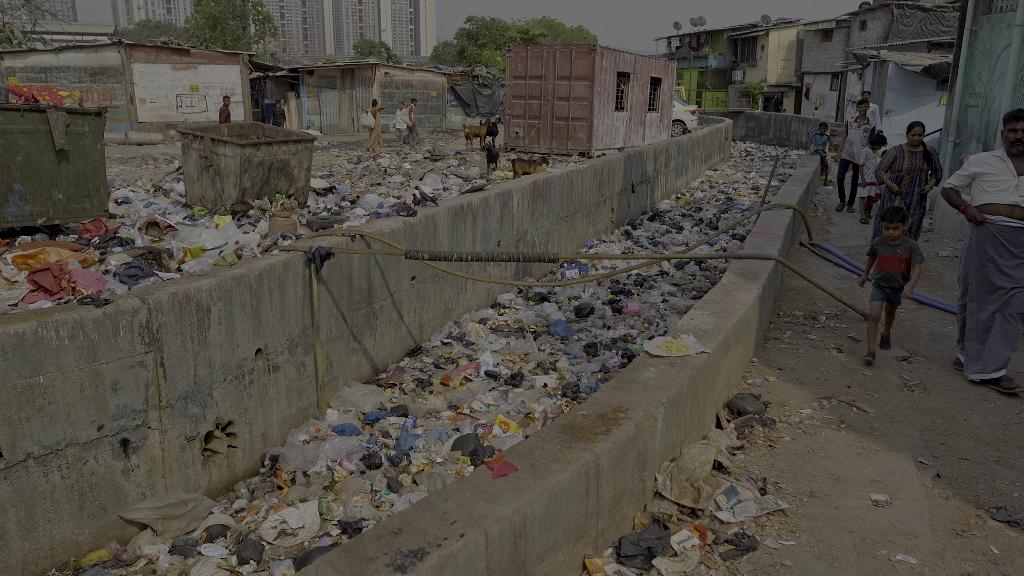dustbin: (0, 104, 116, 234), (178, 116, 316, 216)
garbage: (657, 441, 784, 524), (257, 494, 327, 547), (615, 513, 672, 569), (328, 377, 397, 412), (719, 391, 776, 430), (449, 430, 498, 467), (314, 432, 372, 462), (720, 529, 761, 565), (227, 539, 275, 567), (665, 527, 705, 556), (390, 423, 424, 454), (489, 411, 524, 440), (485, 367, 527, 390), (867, 485, 899, 514), (545, 318, 582, 340), (763, 534, 799, 552), (559, 377, 584, 402), (362, 448, 386, 471), (386, 402, 415, 420), (572, 303, 598, 321), (390, 201, 419, 217), (604, 295, 626, 315), (583, 339, 603, 360), (563, 264, 589, 280), (525, 292, 555, 305)
